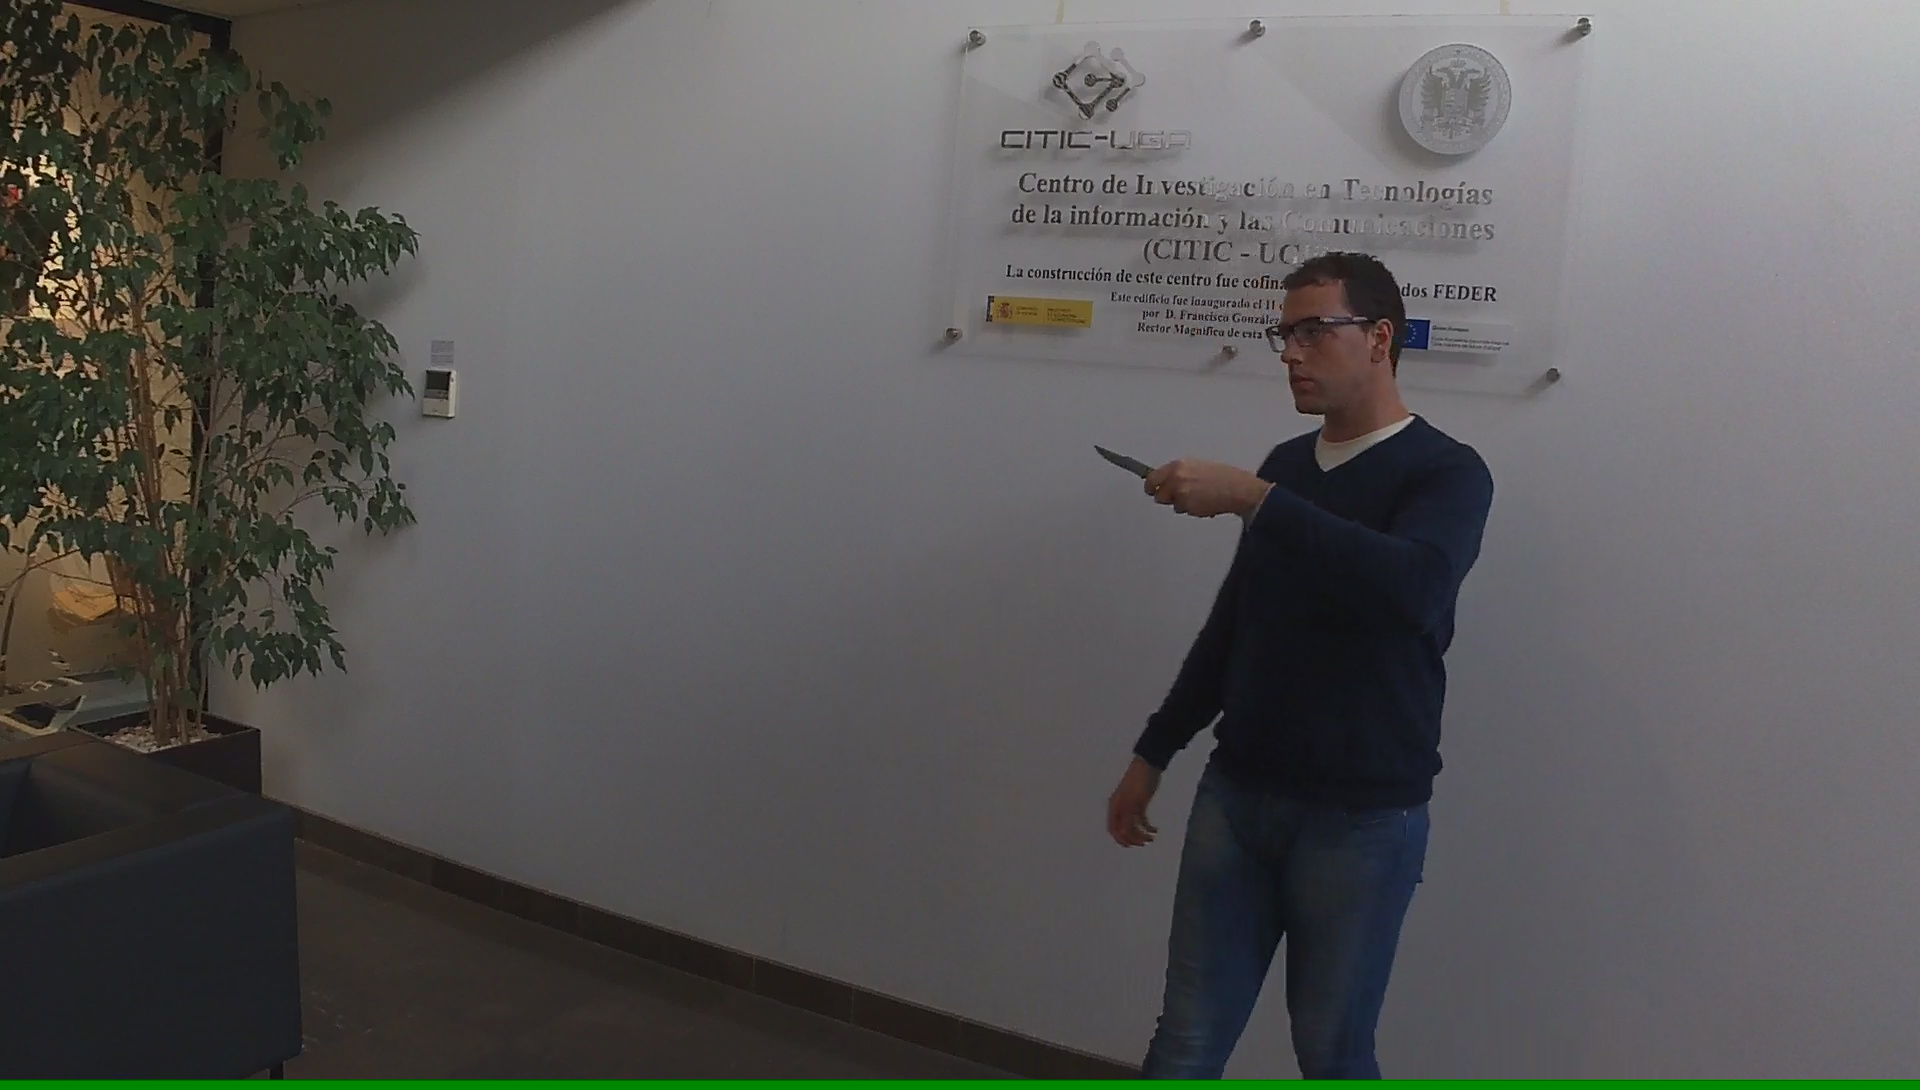knife: (1079, 427, 1197, 519)
